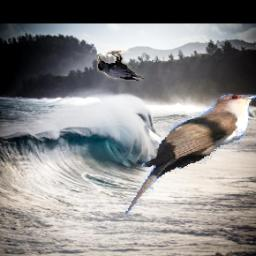Crow: (98, 51, 145, 81)
Cuckoo: (123, 94, 256, 215)
